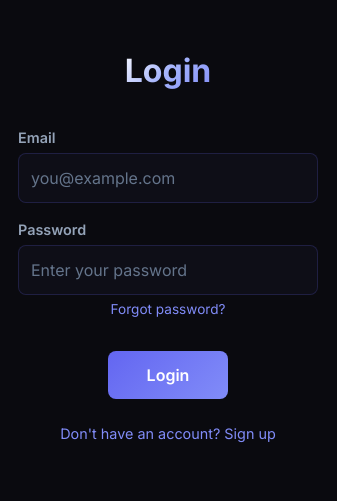
Test: Login › shows error on invalid credentials
In the field labelled "Email": (168, 178) [18,153,318,203], type "test@test.com"
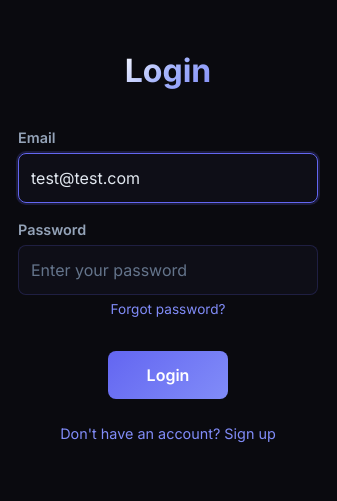
In the password field labelled "Password": (168, 270) [18,245,318,295], type "wrongpassword"
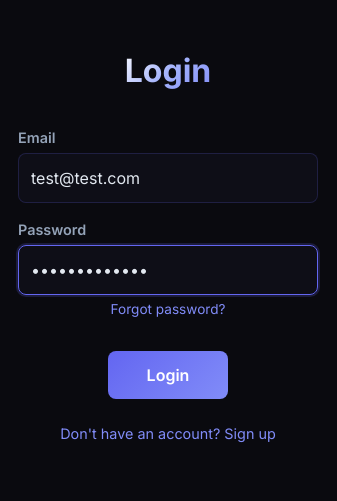
Click the button "Login": (168, 375) [108,351,228,399]
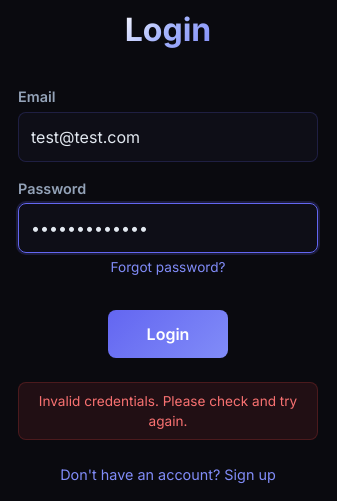
Expected: the message "Invalid credentials. Please check and try again." is shown, [18,382,318,440]
